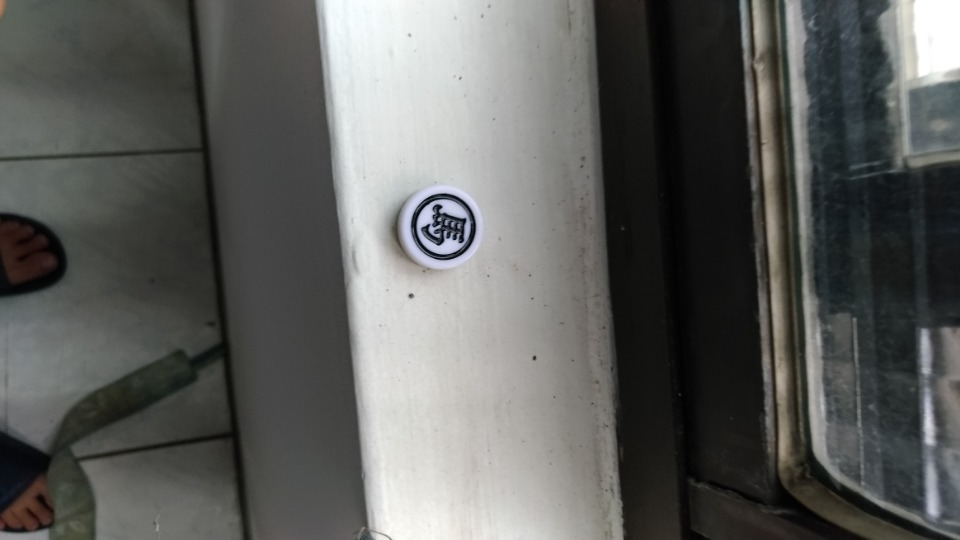b-knight: (387, 183, 497, 280)
